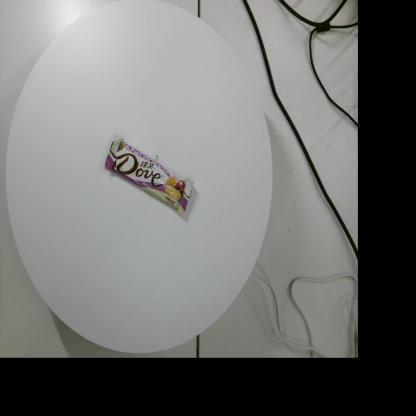Chocolate: (104, 134, 194, 216)
